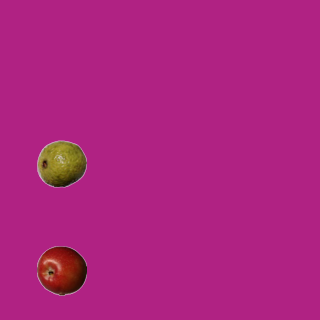Apple Braeburn: (36, 245, 86, 295)
Guava: (36, 138, 86, 188)
